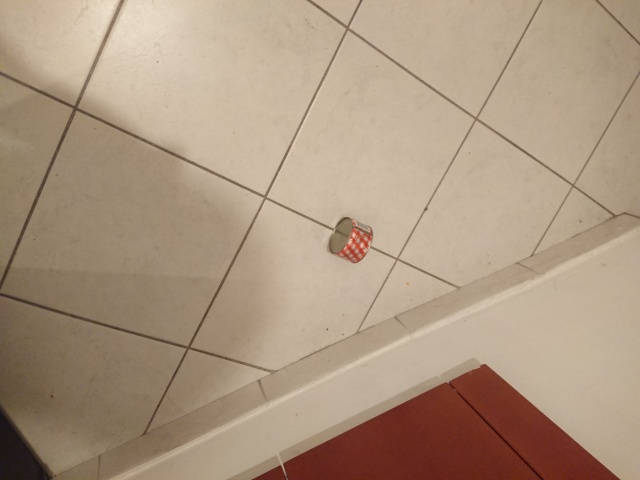Podravka Luncheon Meat 150g: (326, 215, 376, 265)
